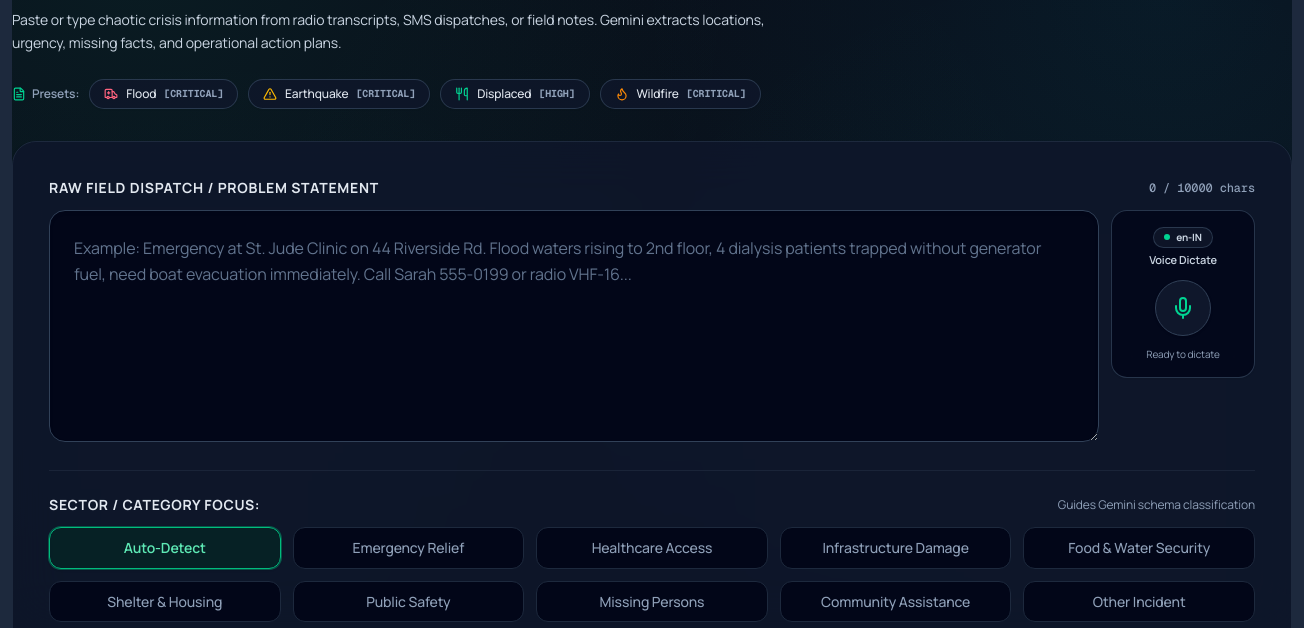
Test: AnalyzeSection Component › disables submit when input is shorter than 10 characters
Replace the text in the text box with placeholder "Example: Emergency at St. Jude Clinic" with "Too short" at (574, 326), box [49,210,1099,442]
(page scrolled)
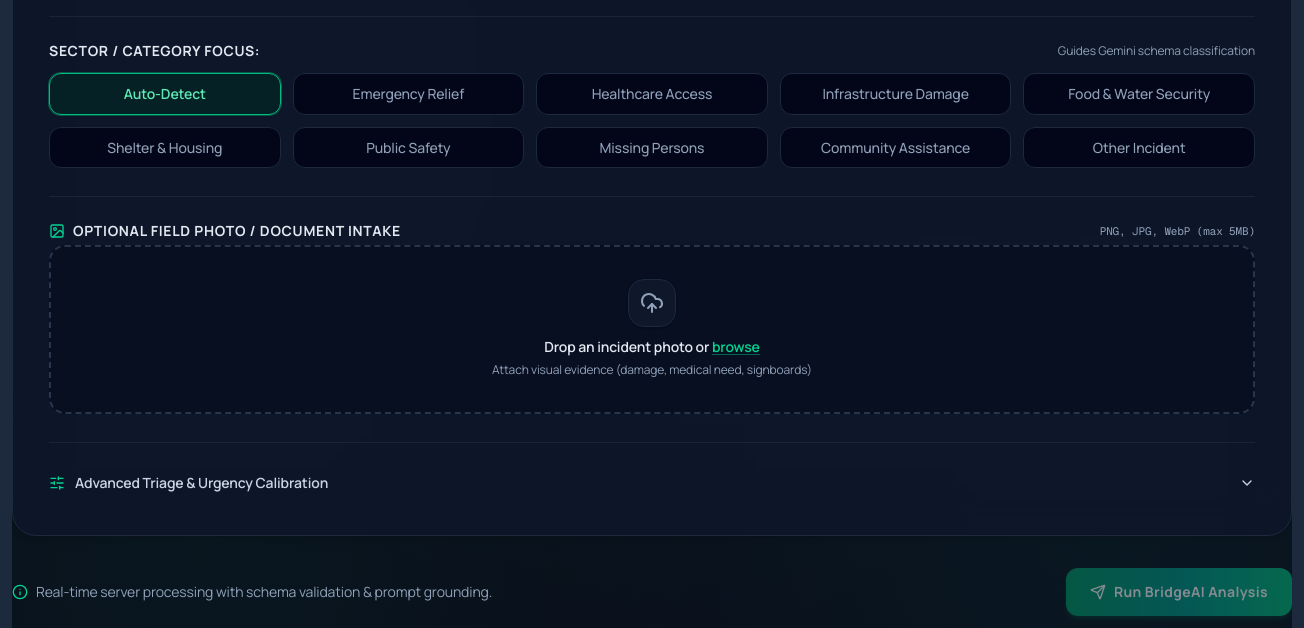
Check: the button "Run BridgeAI Analysis" is disabled, box [1066,568,1292,616]
